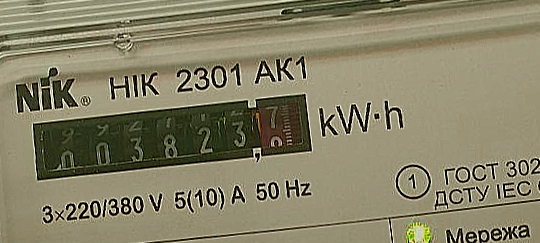0: (90, 137, 113, 166), (57, 145, 77, 170)
2: (194, 122, 217, 156)
3: (228, 117, 250, 149), (126, 132, 147, 163)
7: (264, 103, 283, 132)
8: (160, 129, 180, 159)
9: (56, 124, 76, 145)
screen: (23, 84, 318, 190)
